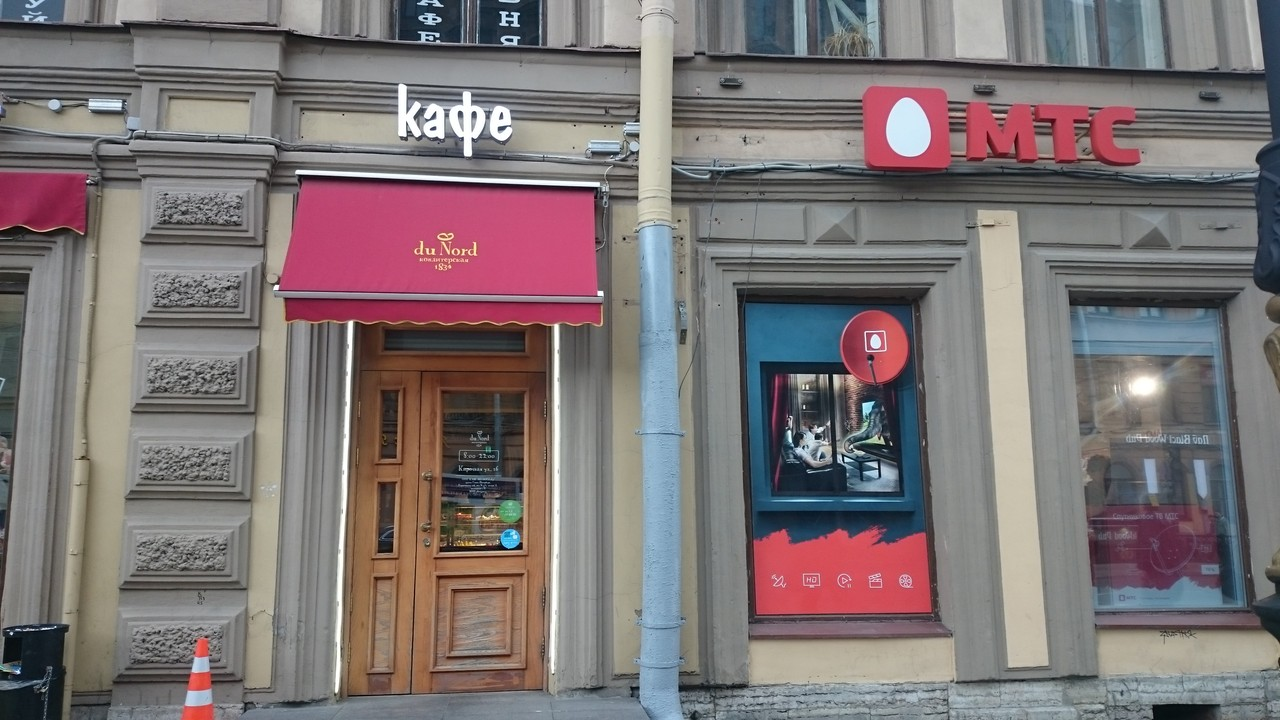door: (360, 370, 541, 691)
signboard: (861, 83, 1143, 181), (392, 77, 516, 165)
win_ad: (745, 302, 931, 614)
window: (740, 293, 939, 621), (1071, 298, 1250, 617)
